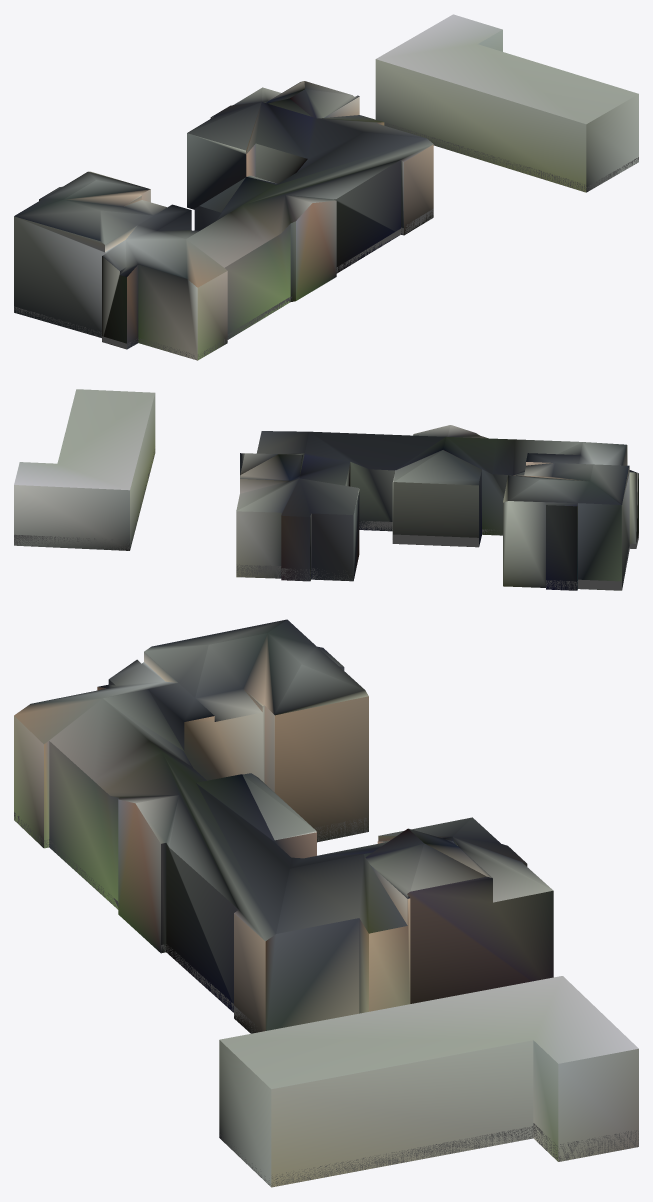
3 views of the same model, one above another, from view 1: azimuth 30°, elevation 25°; view 2: azimuth 150°, elevation 25°; view 3: azimuth 270°, elevation 25° (orthographic). The views are drawn at different scales.
Parts seen in each view (by area): view 1: c_m15_m09; view 2: c_m15_m09; view 3: c_m15_m09.
Boxes of the visible parts, x1,y1,x2,y2 form: c_m15_m09: (14, 14, 638, 360); c_m15_m09: (14, 389, 638, 590); c_m15_m09: (14, 619, 638, 1187).
Size of the model in its own units: 91.02 by 15.12 by 55.34.
